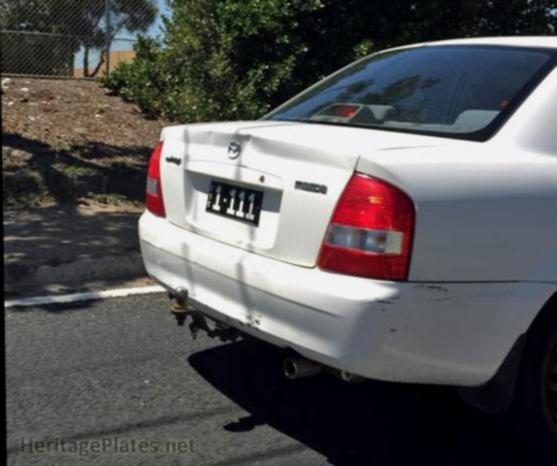License_Plate: (198, 167, 280, 248)
